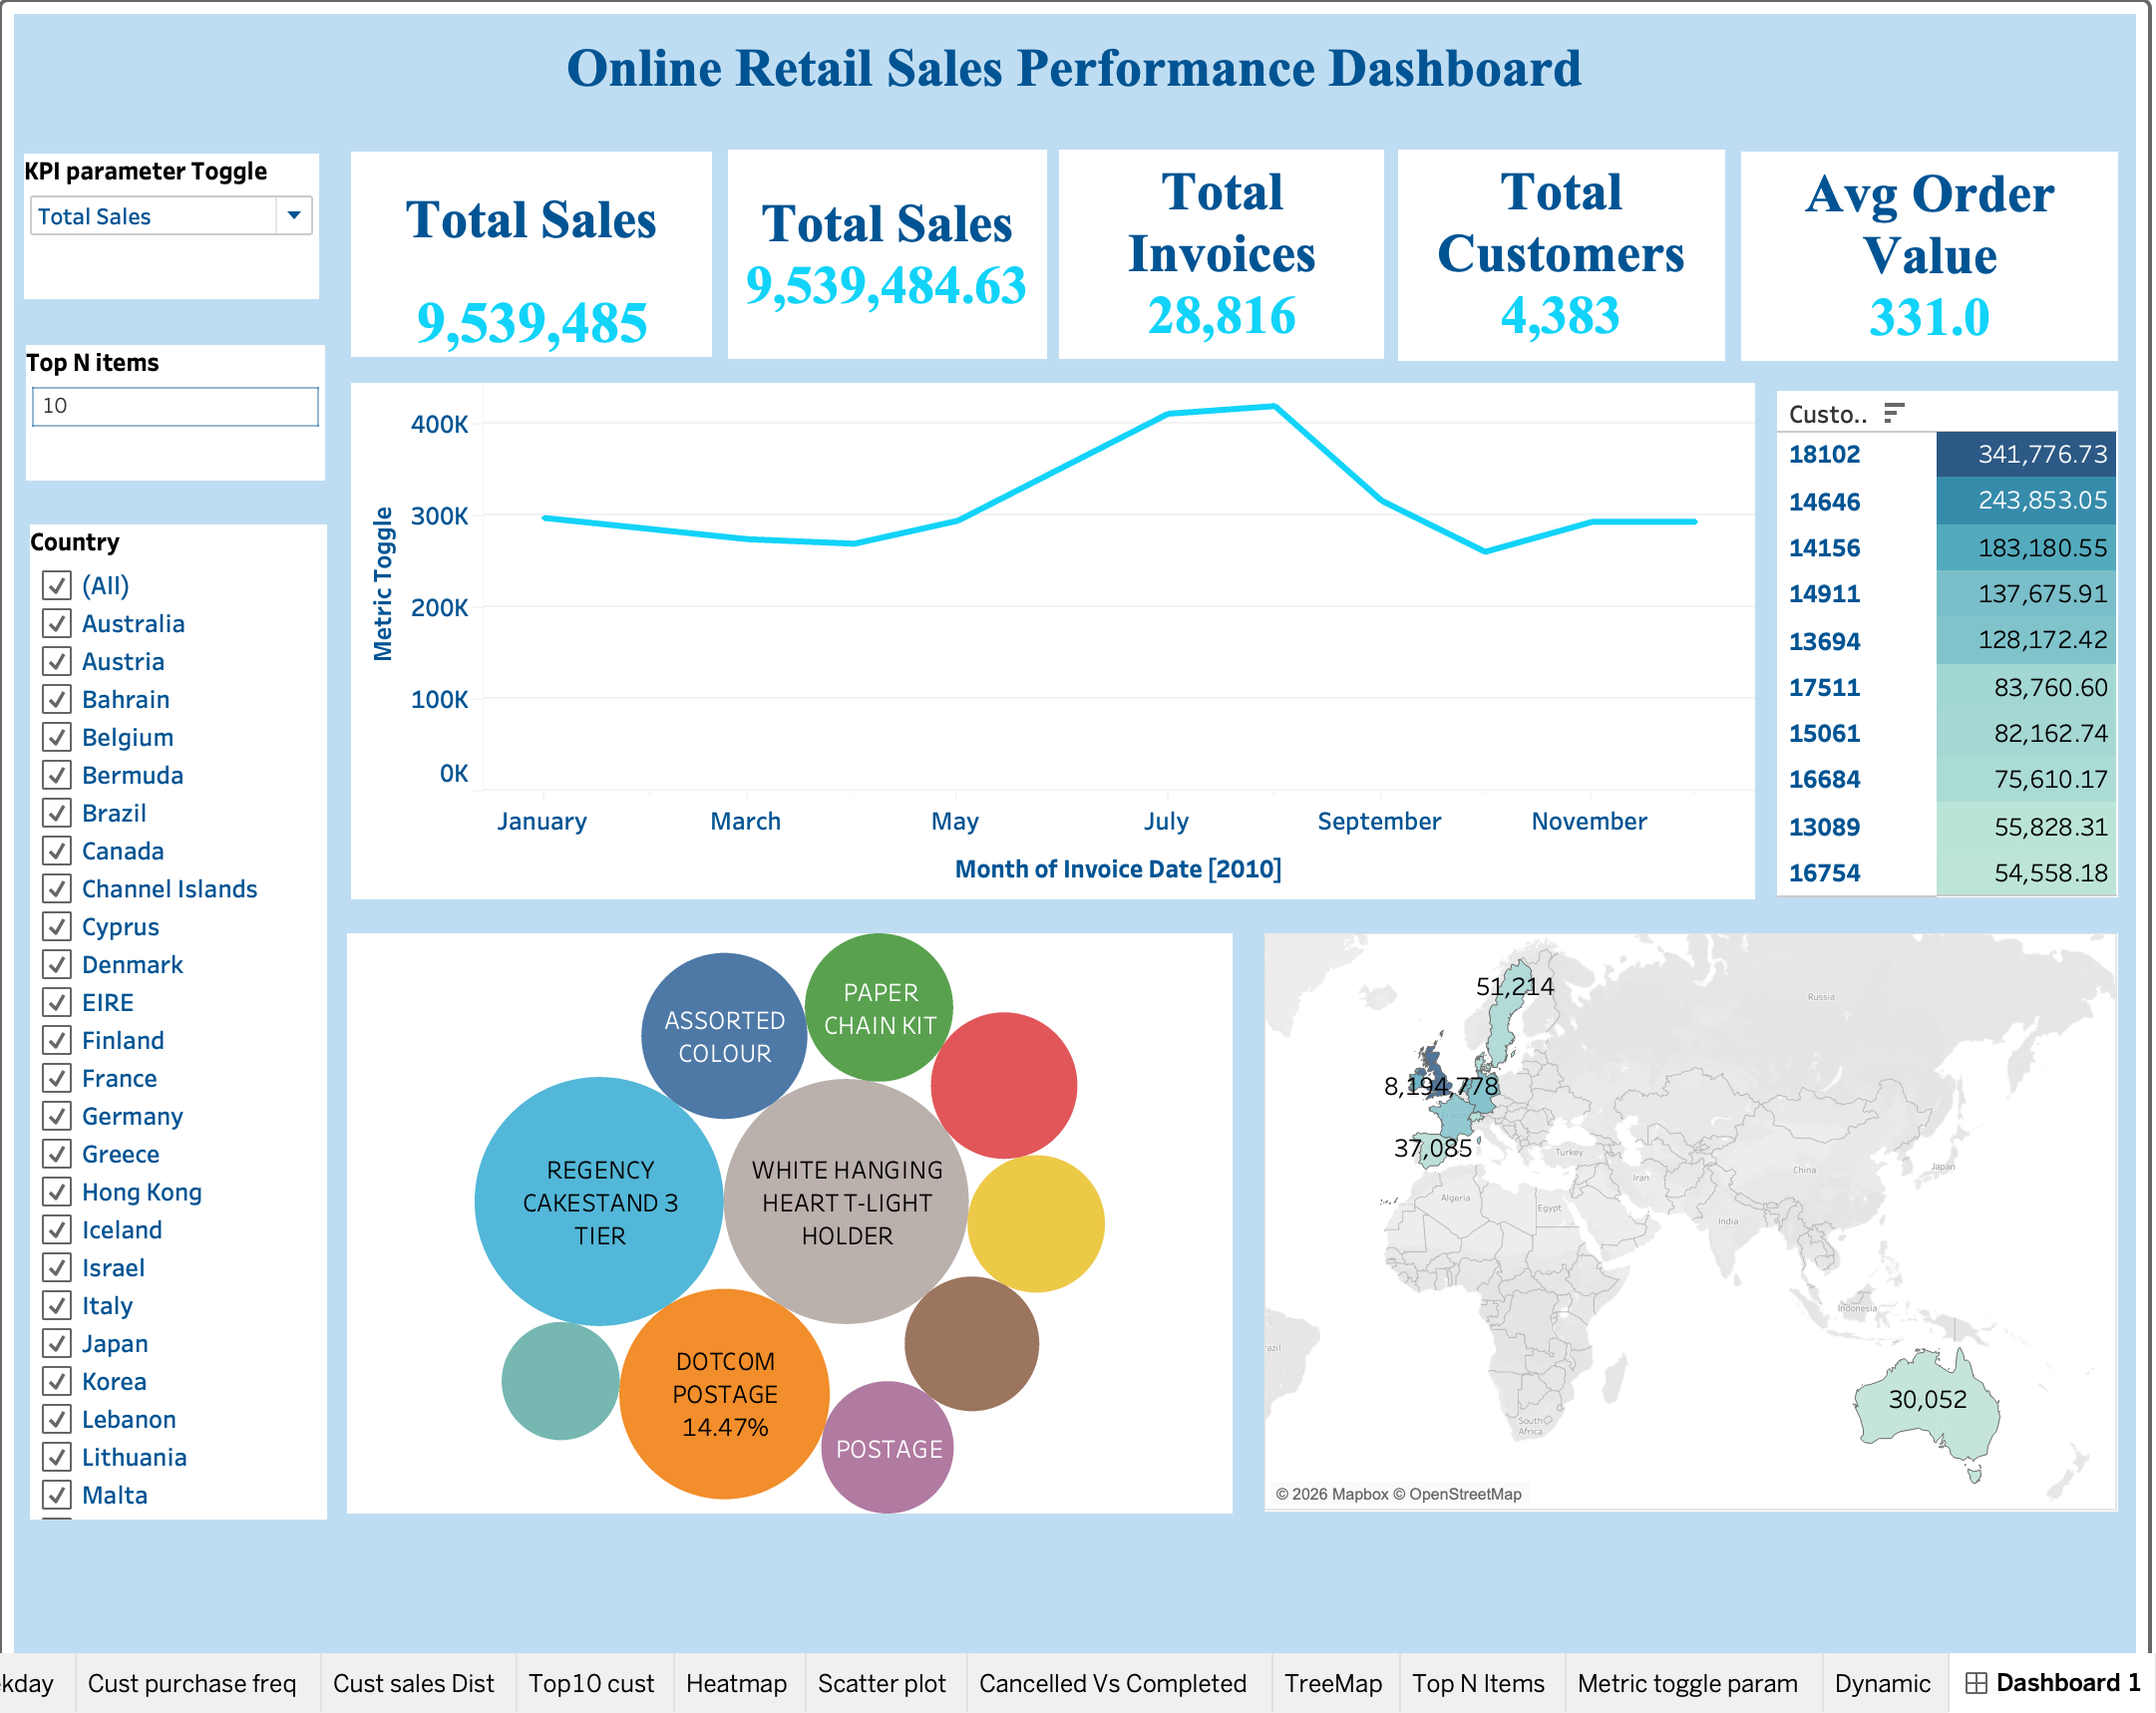

This screenshot's page, from the dashboard's own definition file:
{"tool":"tableau","page":{"name":"Dashboard 1","canvas":[1000,1000],"units":"permille","ordinal":0},"visuals":[{"type":"title","box":[7.4,4.2,985.2,28.1]},{"type":"worksheet","title":"KPI1","mark":"Automatic","box":[338.9,39.6,148.2,54.7]},{"type":"worksheet","title":"Kpi2","mark":"Automatic","box":[492.6,39.6,150.9,54.7]},{"type":"worksheet","title":"kpi3","mark":"Automatic","box":[650,39.6,151.8,55.2]},{"type":"worksheet","title":"Dynamic","mark":"Automatic","cols":["Calculation_120049087552823298"],"box":[163.9,40.1,167.6,53.6]},{"type":"worksheet","title":"kpi4","mark":"Automatic","box":[809.3,40.1,175,54.7]},{"type":"parameter","param":"[Parameters].[Parameter 2]","box":[12,40.6,137,38]},{"type":"parameter","param":"[Parameters].[Parameter 1]","box":[13,90.6,138.9,35.4]},{"type":"worksheet","title":"Metric toggle param","mark":"Automatic","rows":["Calculation_85498033927680002"],"cols":["InvoiceDate"],"box":[163.9,100.5,651.9,134.9]},{"type":"worksheet","title":"Top10 cust","mark":"Square","rows":["CustomerID"],"box":[825.9,102.6,158.3,132.3]},{"type":"filter","title":"Country map","param":"[federated.0qxqfun1o6bcdy1c4hb7j10m8wvz].[none:Country:nk]","box":[14.8,137.5,138,259.9]},{"type":"worksheet","title":"Top 10 items","mark":"Circle","box":[162,244.3,411.1,151.6]},{"type":"worksheet","title":"Country map","mark":"Multipolygon","box":[588,244.3,396.3,151]}]}

Visuals, with their boxes on the dashboard's canvas, which has no fixed pixel size, in thousandths of its width and height (x1, y1, x2, y2). These are canvas units, not pixel positions in the 2156x1713 screenshot, which may show the page scaled, cropped or inside an application window:
title: (x1=7, y1=4, x2=993, y2=32)
"KPI1" worksheet: (x1=339, y1=40, x2=487, y2=94)
"Kpi2" worksheet: (x1=493, y1=40, x2=644, y2=94)
"kpi3" worksheet: (x1=650, y1=40, x2=802, y2=95)
"Dynamic" worksheet: (x1=164, y1=40, x2=332, y2=94)
"kpi4" worksheet: (x1=809, y1=40, x2=984, y2=95)
parameter: (x1=12, y1=41, x2=149, y2=79)
parameter: (x1=13, y1=91, x2=152, y2=126)
"Metric toggle param" worksheet: (x1=164, y1=100, x2=816, y2=235)
"Top10 cust" worksheet (Square marks): (x1=826, y1=103, x2=984, y2=235)
"Country map" filter: (x1=15, y1=138, x2=153, y2=397)
"Top 10 items" worksheet (Circle marks): (x1=162, y1=244, x2=573, y2=396)
"Country map" worksheet (Multipolygon marks): (x1=588, y1=244, x2=984, y2=395)
